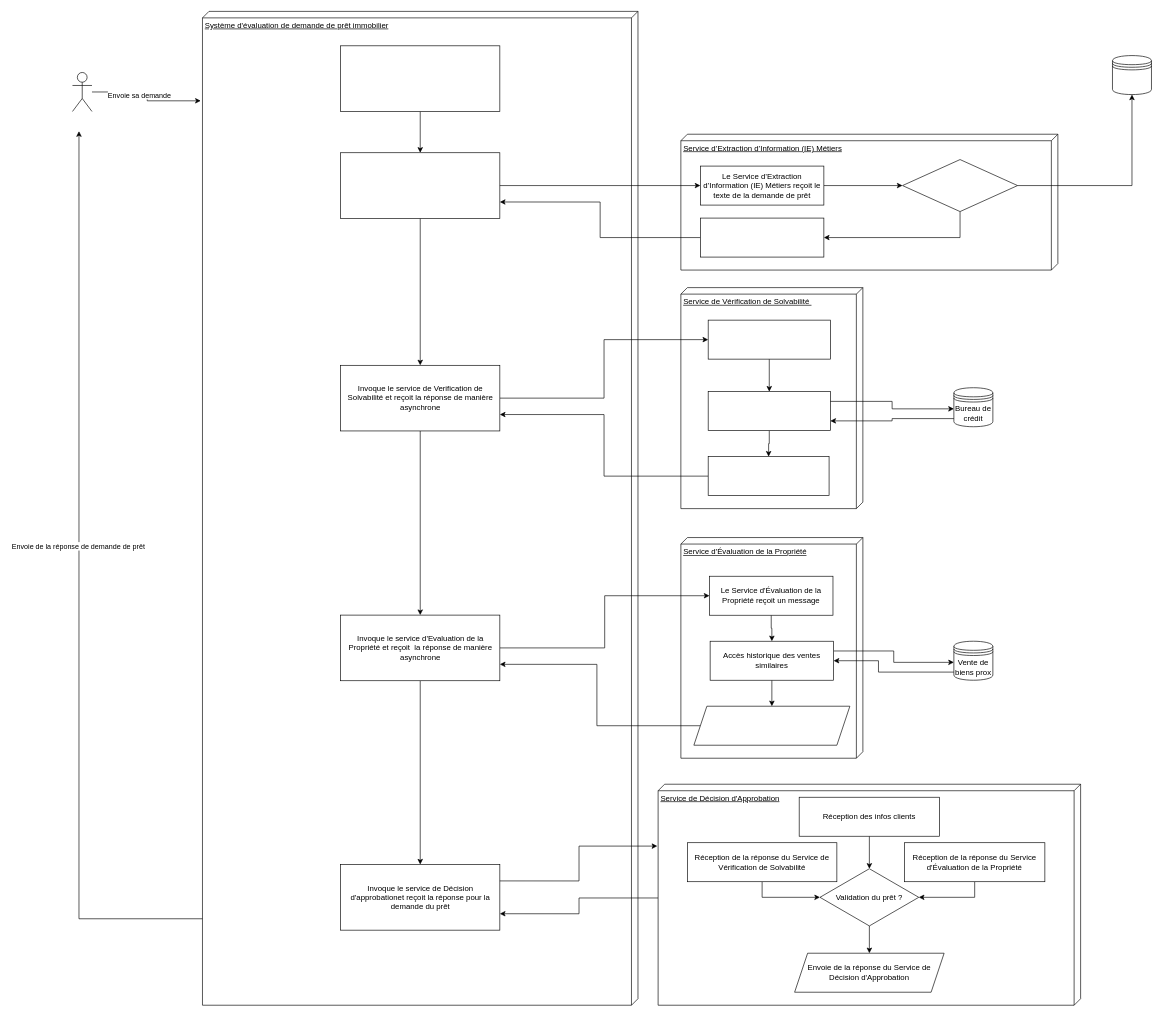
Some shapes in this 1163 by 1017 pixel diagram are drawn without their labels. Each missing label, with the centre of its shape:
Accès historique financier du client: (769,411)
Attend la réception d'une nouvelle demande de prêt: (420,78)
Client: (82,91)
Invoque le service d'Extraction d'Informations Métiers et reçoit la réponse: (420,185)
Le Service de Vérification de Solvabilité reçoit un message: (769,339)
Qualité des données ?: (960,185)
Revoie des informations à propos de la solvabilité du demandeur: (768,476)
Revoie du résultat de l'évaluation de la propriété de manière asynchrone: (771,725)
Transmission des informations: (762,237)
